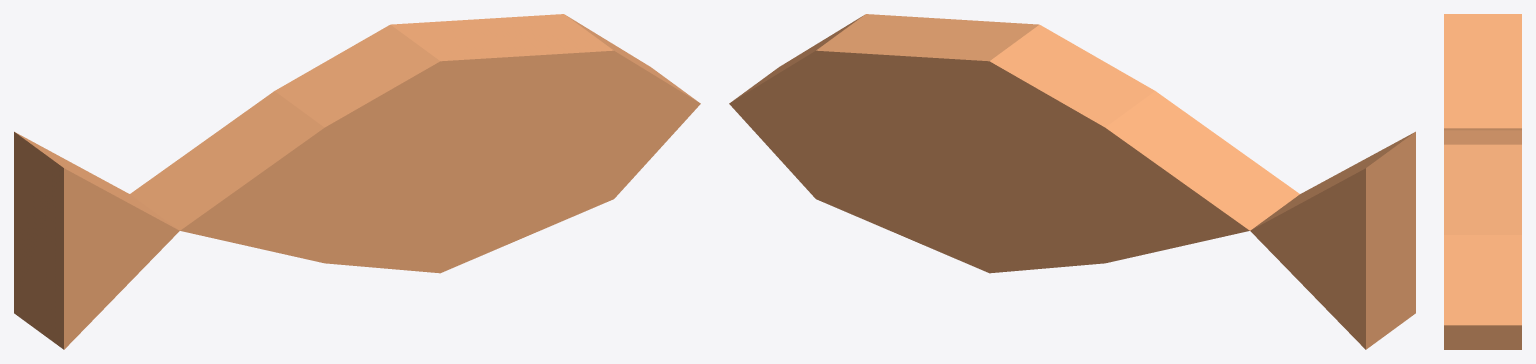
Rendered from clownfish.glb.
3 renders of one model, left to right at view 1: azimuth 30°, elevation 25°; view 2: azimuth 150°, elevation 25°; view 3: azimuth 270°, elevation 25°, orthographic. The views are drawn at different scales.
Size of the model in its own units: 2.2 by 0.7 by 0.3.
